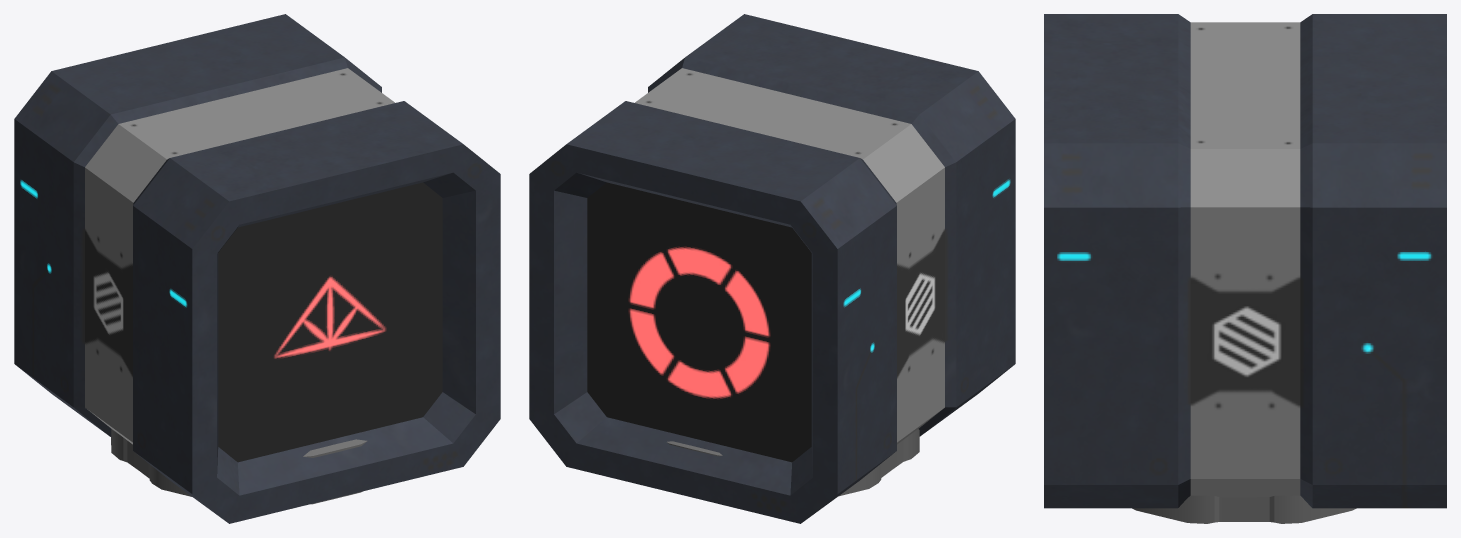
Rendered from IG_Helmat_Displayer.fbx.
3 views of the same model, side by side, from view 1: azimuth 30°, elevation 25°; view 2: azimuth 150°, elevation 25°; view 3: azimuth 270°, elevation 25° (orthographic). The views are drawn at different scales.
Parts seen in each view (by area): view 1: Model, IG_Helmat_Displayer; view 2: Model, IG_Helmat_Displayer; view 3: Model, IG_Helmat_Displayer.
Part boxes in pixels (x1,y1,x2,y2): Model: (14, 14, 500, 523); IG_Helmat_Displayer: (111, 429, 367, 504); Model: (529, 14, 1015, 523); IG_Helmat_Displayer: (667, 429, 919, 496); Model: (1044, 14, 1446, 508); IG_Helmat_Displayer: (1132, 495, 1356, 523).
Size of the model in its own units: 0.6772 by 0.7166 by 0.6772.
